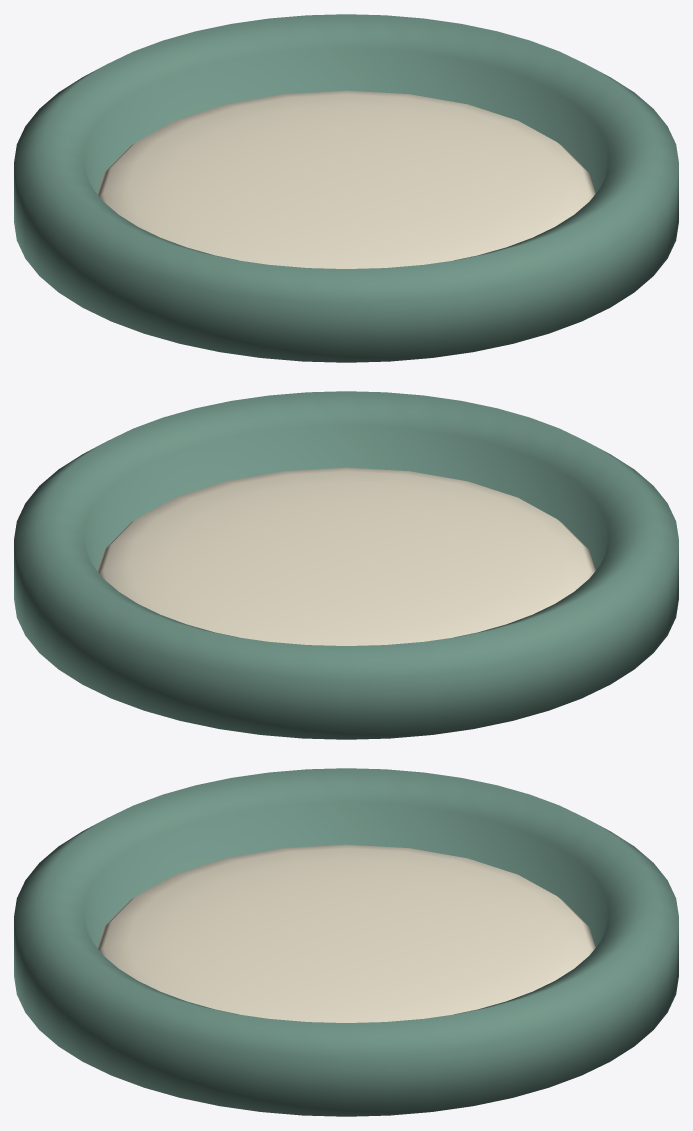
The model's file is cat_bed.glb.
3 renders of one model, top to bottom at view 1: azimuth 30°, elevation 25°; view 2: azimuth 150°, elevation 25°; view 3: azimuth 270°, elevation 25°, orthographic.
Parts seen in each view (by area): view 1: cat_bed; view 2: cat_bed; view 3: cat_bed.
Boxes of the visible parts, box(x1,y1,x2,y2) form: cat_bed: box(14, 14, 678, 362); cat_bed: box(14, 391, 678, 739); cat_bed: box(14, 768, 678, 1116).
Size of the model in its own units: 0.86 by 0.15 by 0.86.
